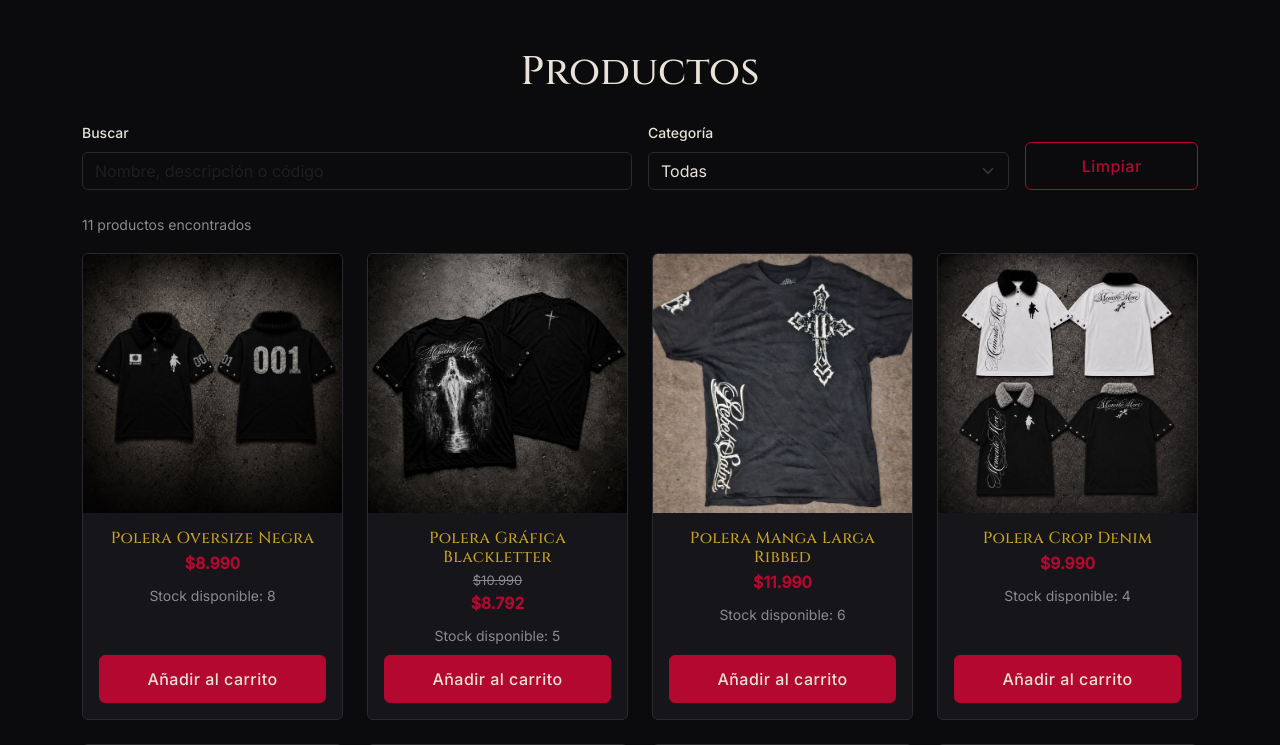
Test: Productos (lista y filtros) › al escribir en el campo de búsqueda la lista se actualiza (evento + estado)
Type "cargo" into the search field labelled "Buscar" at (357, 171), box left=82, top=152, right=632, bottom=190
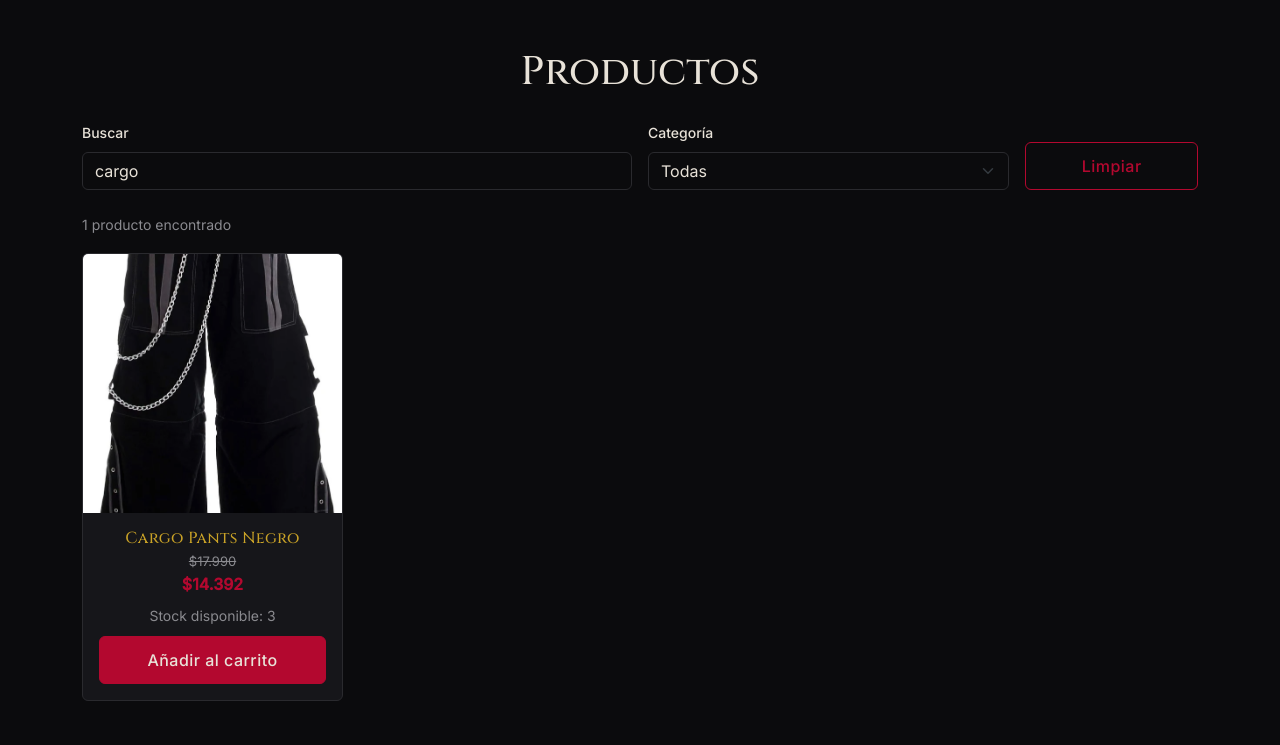
Expected: the heading "Cargo Pants Negro" is shown, left=125, top=527, right=300, bottom=549
Result: the number of elements with class "card-producto" is 1 at left=82, top=253, right=343, bottom=701
